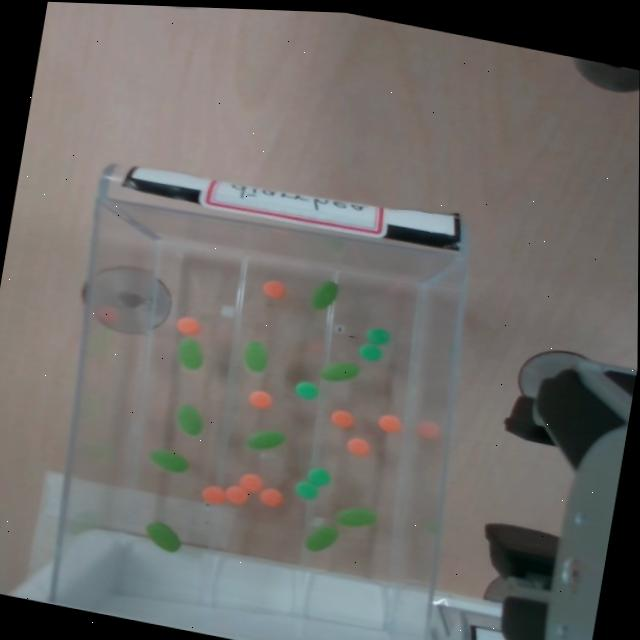famodine: (304, 466, 331, 489), (293, 479, 319, 502), (356, 341, 383, 362), (293, 380, 318, 401), (363, 327, 389, 347), (306, 467, 329, 486), (294, 481, 317, 499), (294, 381, 317, 399), (357, 344, 381, 361), (365, 328, 389, 344)
otillen_tab: (142, 520, 184, 554), (146, 446, 190, 476), (171, 402, 206, 438), (243, 425, 284, 455), (302, 521, 337, 556), (317, 357, 359, 386), (174, 335, 205, 372), (144, 521, 182, 551), (308, 277, 339, 313), (334, 503, 375, 530), (240, 339, 270, 374), (148, 449, 187, 472), (304, 525, 338, 551), (175, 404, 202, 435), (334, 507, 375, 527), (177, 337, 202, 369), (242, 340, 267, 372), (310, 280, 337, 309), (246, 430, 284, 450), (319, 362, 358, 381)
samsung_octylonium_tab: (198, 484, 225, 506), (221, 483, 246, 506), (256, 486, 282, 508), (236, 472, 263, 493), (344, 435, 368, 457), (248, 389, 273, 410), (260, 278, 283, 300), (175, 316, 199, 337), (329, 409, 352, 430), (345, 437, 370, 456), (257, 488, 282, 507), (201, 485, 226, 504), (377, 414, 400, 434), (175, 316, 199, 335), (329, 409, 353, 428), (247, 390, 272, 408), (376, 414, 401, 432), (225, 485, 248, 504), (238, 473, 262, 491), (261, 280, 284, 298)
